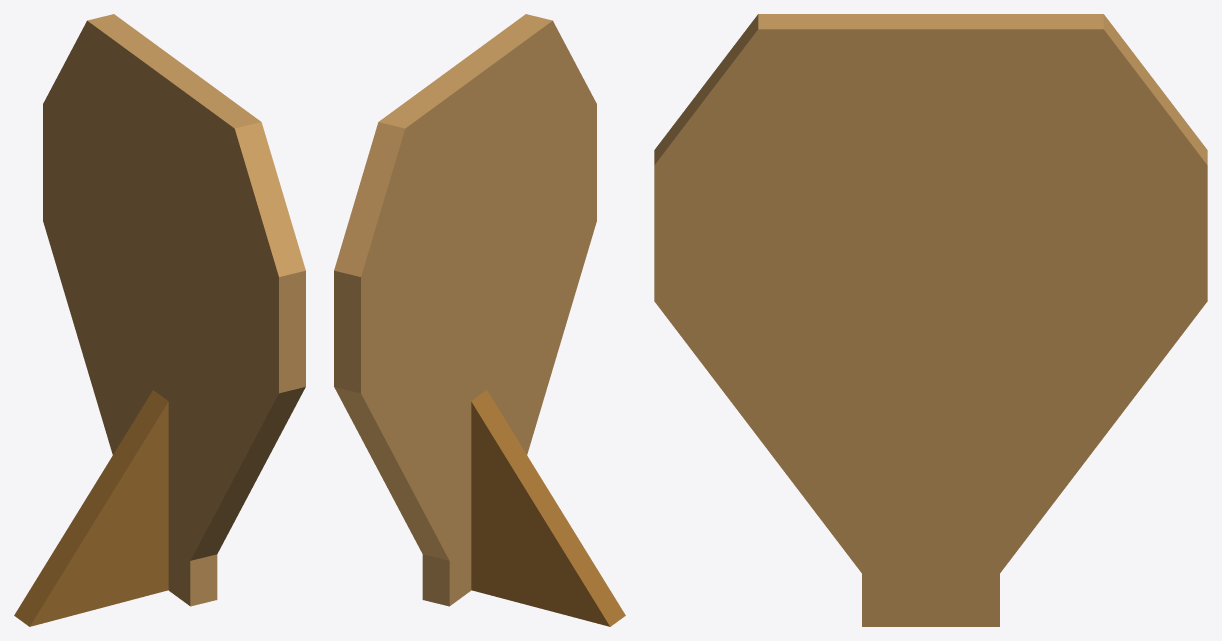
Rendered from CarboardCutout5WIP.fbx.
3 renders of one model, left to right at view 1: azimuth 30°, elevation 25°; view 2: azimuth 150°, elevation 25°; view 3: azimuth 270°, elevation 25°, orthographic. The views are drawn at different scales.
Parts seen in each view (by area): view 1: Cube, Cube.001; view 2: Cube, Cube.001; view 3: Cube.
Part boxes in pixels (x1,y1,x2,y2): Cube: (43,14,305,606); Cube.001: (14,390,168,626); Cube: (334,14,596,606); Cube.001: (471,390,625,626); Cube: (654,14,1207,626).
Bounding box in the file's own units: 216 × 639 × 533.
